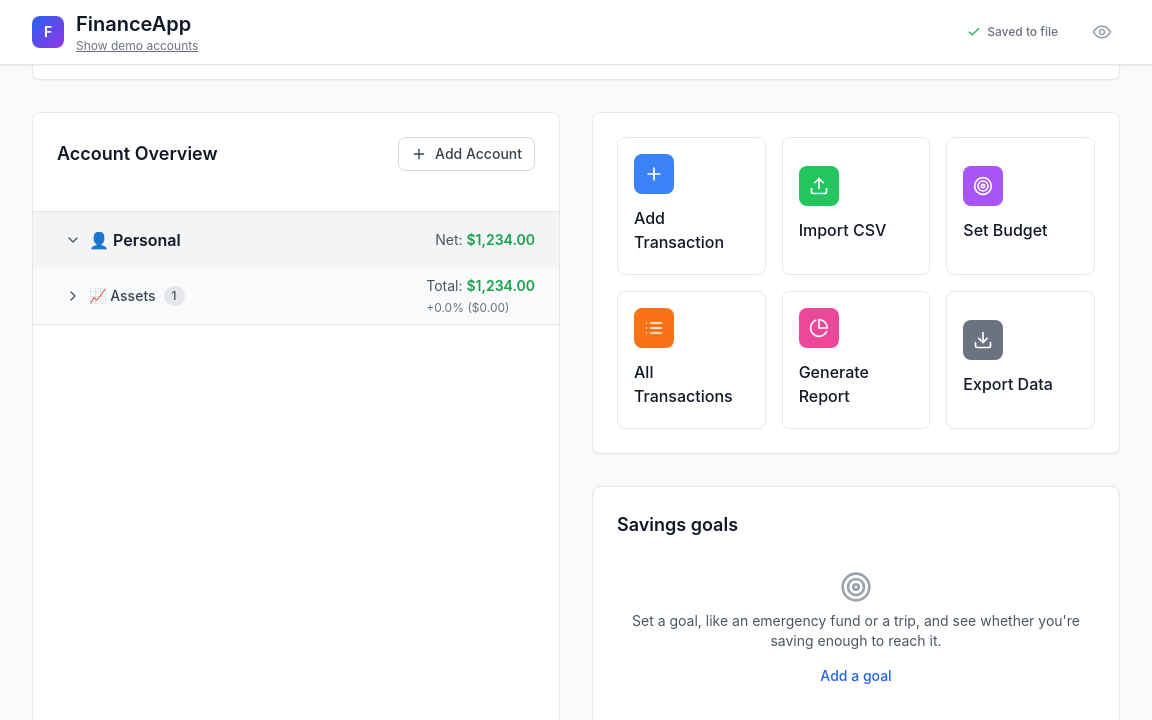
Test: Auto-saving to a file › stops auto-saving and forgets the file
(page scrolled)
Expected: the text "Saved to file" is shown, [987,24,1058,40]
Click the button "Export Data": (1021, 360) [946,291,1095,429]
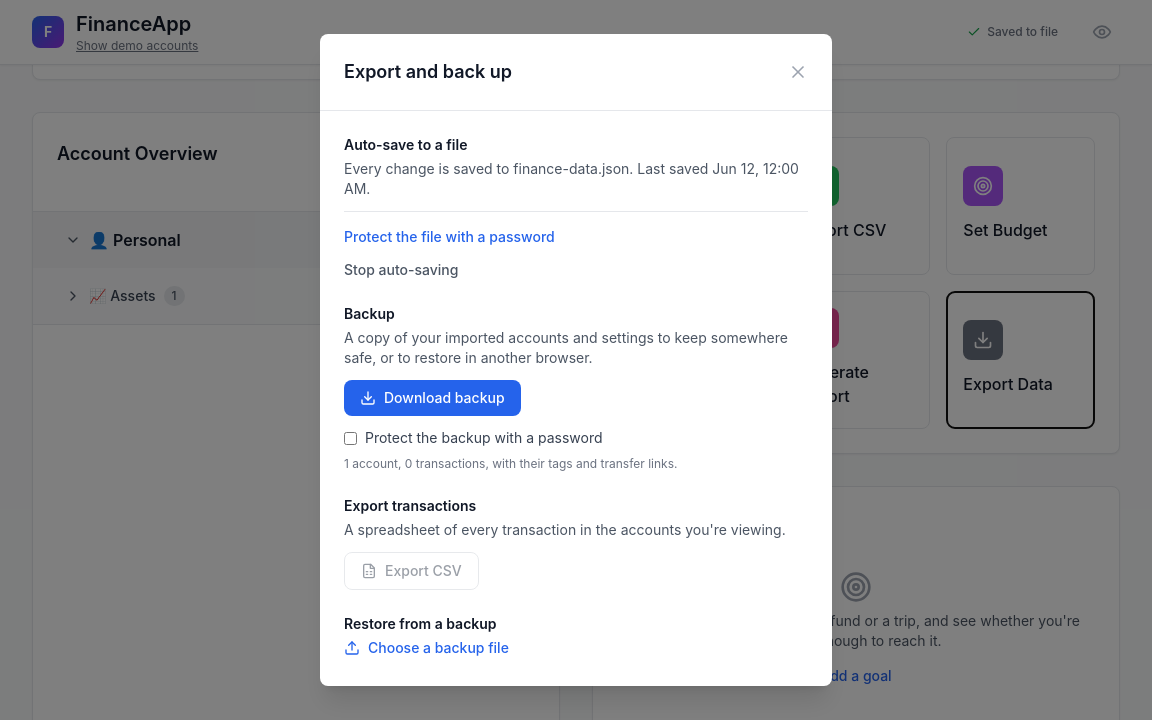
Click the button with test id "sync-stop": (401, 270) [344,260,458,280]
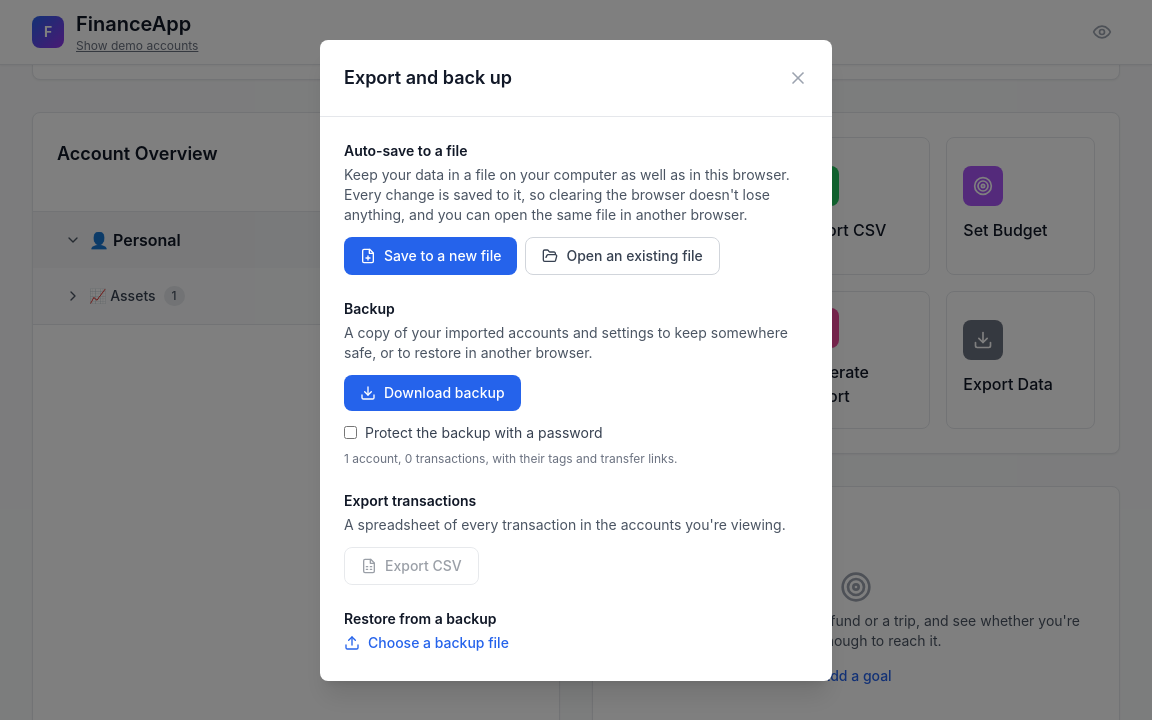
Expected: the button with test id "sync-create" is shown, [344,236,517,274]
Expected: the element with test id "sync-indicator" is gone
